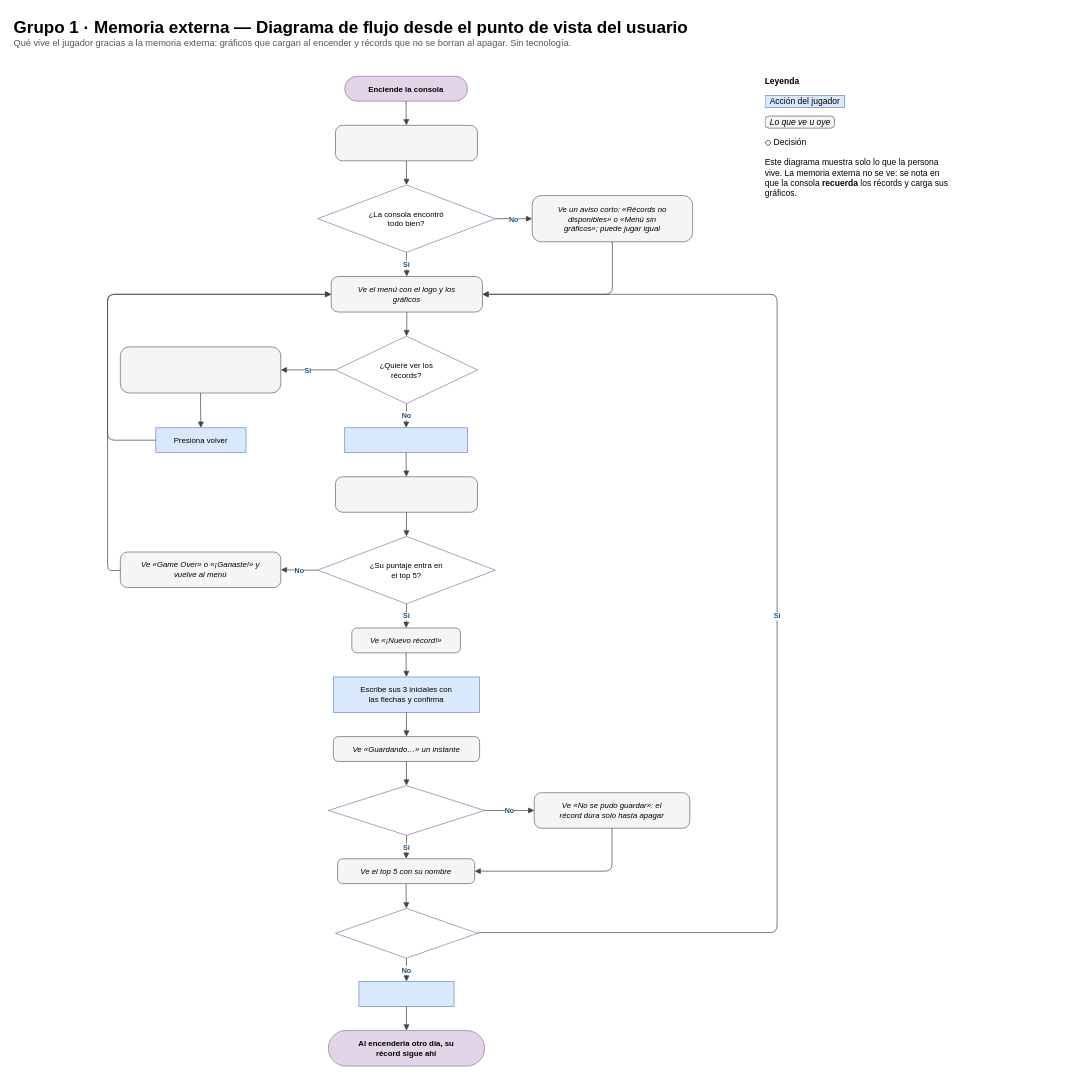
This 1089x1078 diagram has some shape labels left out. The centre of each missing label's shape, as x and y in pixels:
Apaga la consola: (x=406, y=993)
Elige un juego y juega: (x=406, y=440)
Termina la partida y ve su puntaje: (x=406, y=494)
Ve el logo y una barra «Cargando…» (menos de 1 s): (x=406, y=143)
Ve el top 5 de cada juego, con las iniciales de partidas de otros días: (x=200, y=369)
¿Se pudo guardar?: (x=406, y=810)
¿Sigue jugando?: (x=406, y=933)
